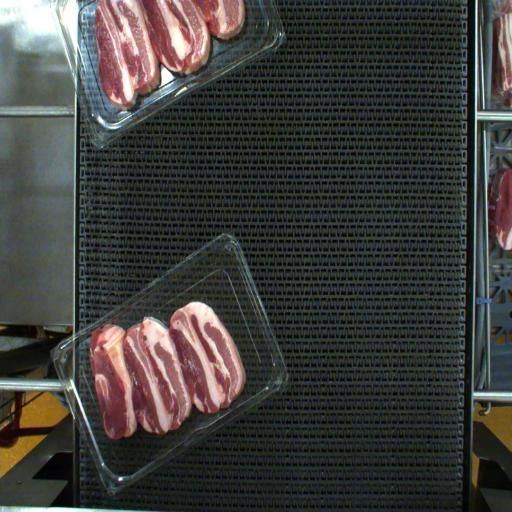packaging-error: (76, 316, 128, 361)
